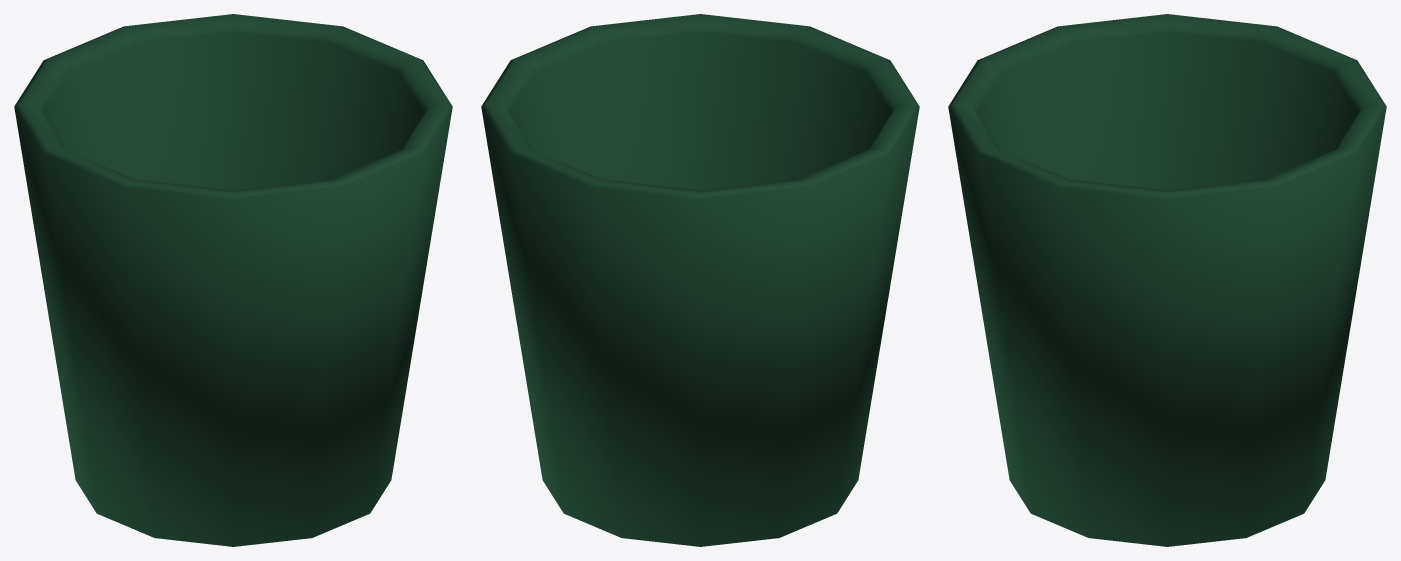
File: fbx_trashCan.fbx
3 views of the same model, side by side, from view 1: azimuth 30°, elevation 25°; view 2: azimuth 150°, elevation 25°; view 3: azimuth 270°, elevation 25° (orthographic).
Visible parts, largest first — view 1: trashCan; view 2: trashCan; view 3: trashCan.
Part boxes in pixels (x1,y1,x2,y2): trashCan: (14, 14, 452, 546); trashCan: (481, 14, 919, 546); trashCan: (948, 14, 1386, 546).
Size of the model in its own units: 2 by 1.89 by 2.
